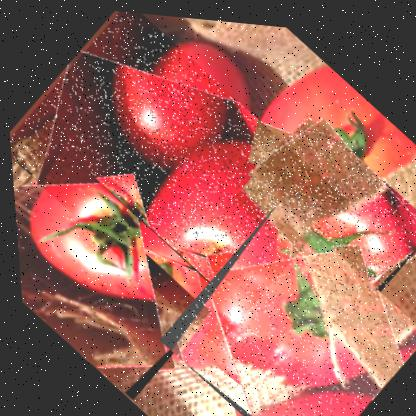tomato: (0, 0, 352, 353), (143, 185, 415, 415), (8, 139, 227, 407), (221, 98, 415, 317)
